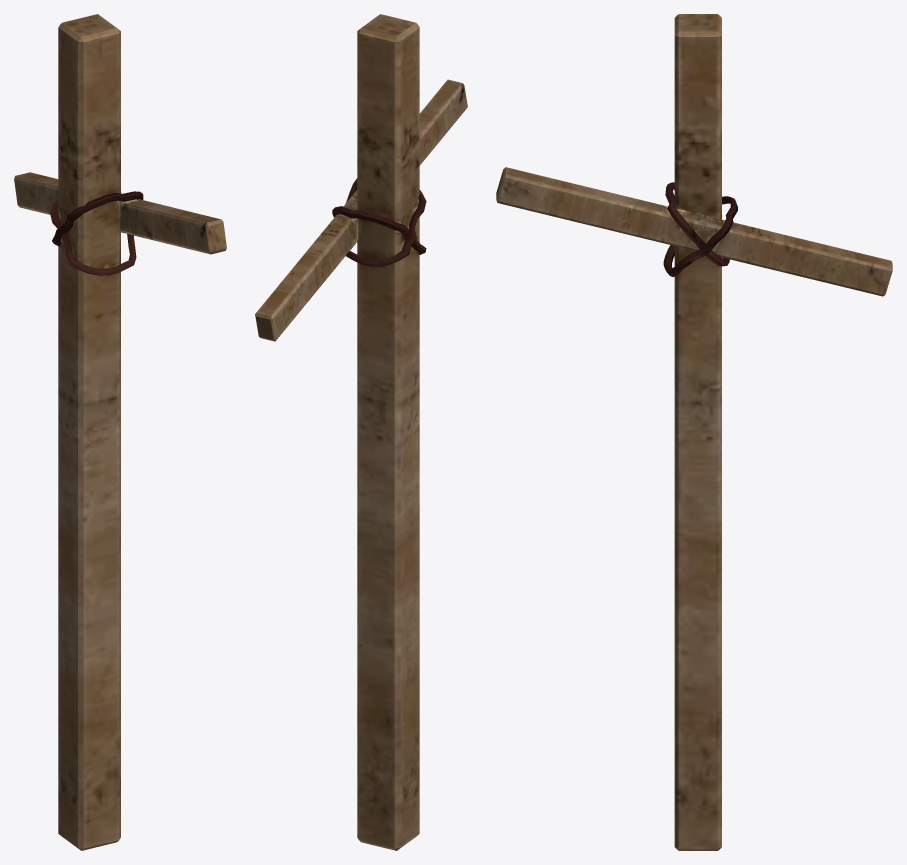
File: obj_withered_wooden_crucifix.glb
3 views of the same model, side by side, from view 1: azimuth 30°, elevation 25°; view 2: azimuth 150°, elevation 25°; view 3: azimuth 270°, elevation 25° (orthographic).
Parts seen in each view (by area): view 1: horizonPost_rope_0; view 2: horizonPost_rope_0; view 3: horizonPost_rope_0.
Part boxes in pixels (<box>): horizonPost_rope_0: <box>14,14,226,850</box>; horizonPost_rope_0: <box>255,14,467,850</box>; horizonPost_rope_0: <box>496,14,892,850</box>.
Size of the model in its own units: 0.0568 by 0.55 by 0.2411.
Materials: 2 (2 with a texture image).
